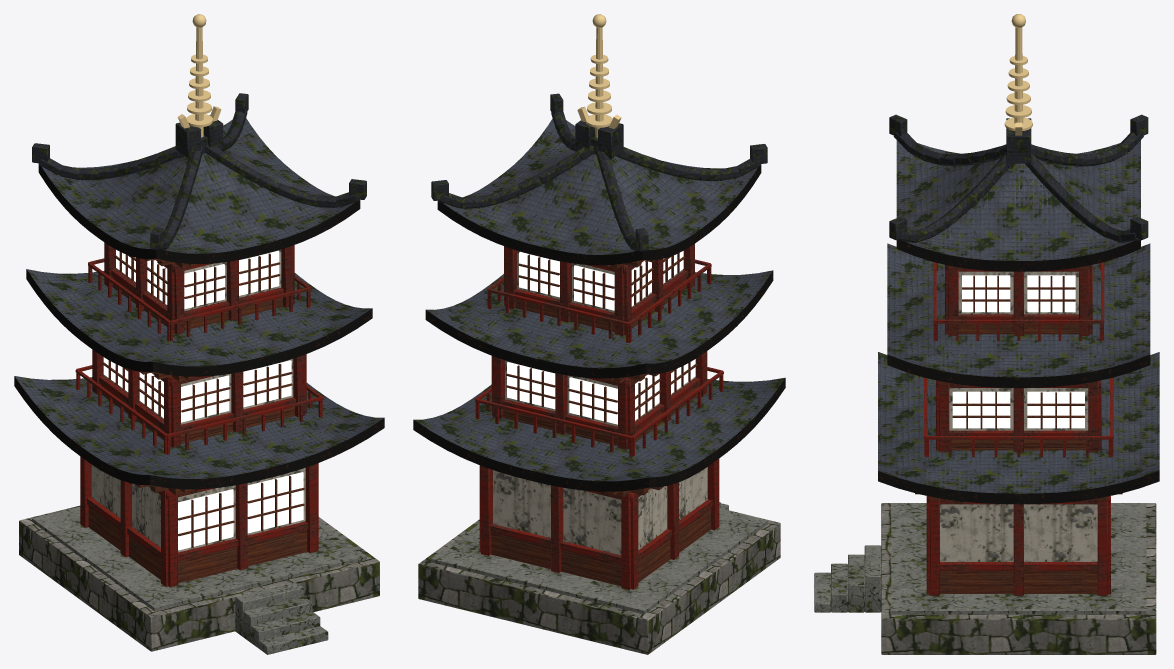
The model's file is Pagoda_3F.fbx.
3 views of the same model, side by side, from view 1: azimuth 30°, elevation 25°; view 2: azimuth 150°, elevation 25°; view 3: azimuth 270°, elevation 25° (orthographic). The views are drawn at different scales.
Visible parts, largest first — view 1: Pagoda_3F_LOD0; view 2: Pagoda_3F_LOD0; view 3: Pagoda_3F_LOD0.
Part boxes in pixels (<box>): Pagoda_3F_LOD0: <box>14,14,384,654</box>; Pagoda_3F_LOD0: <box>413,14,785,654</box>; Pagoda_3F_LOD0: <box>814,14,1159,654</box>.
Size of what is drawn, in the model's own units: 8.4 by 19.19 by 10.3.
